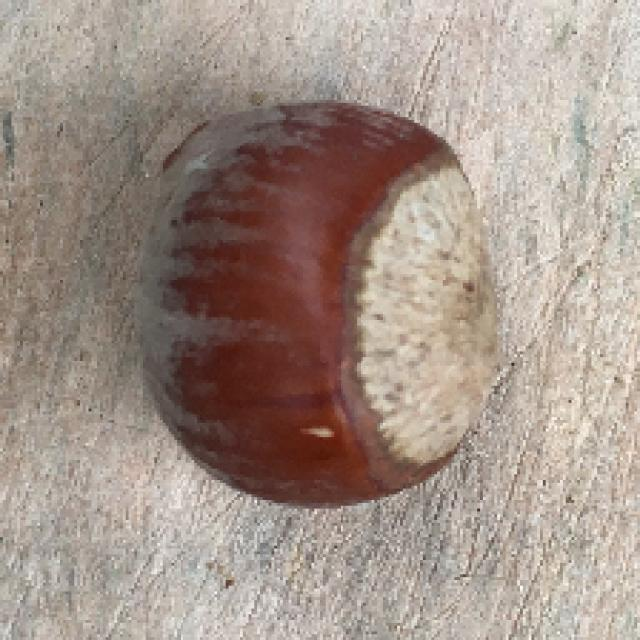QualityHazelnut: (135, 94, 501, 515)
